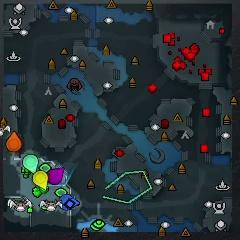p1: (59, 194, 79, 210)
p2: (23, 155, 38, 173)
p3: (47, 167, 65, 184)
p4: (32, 170, 48, 189)
p5: (6, 131, 22, 152)
